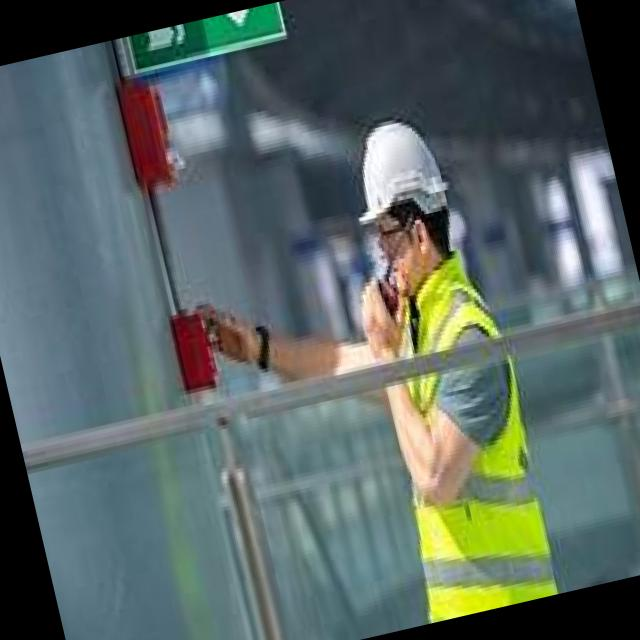not-gloved: (189, 284, 268, 386), (348, 270, 418, 364)
